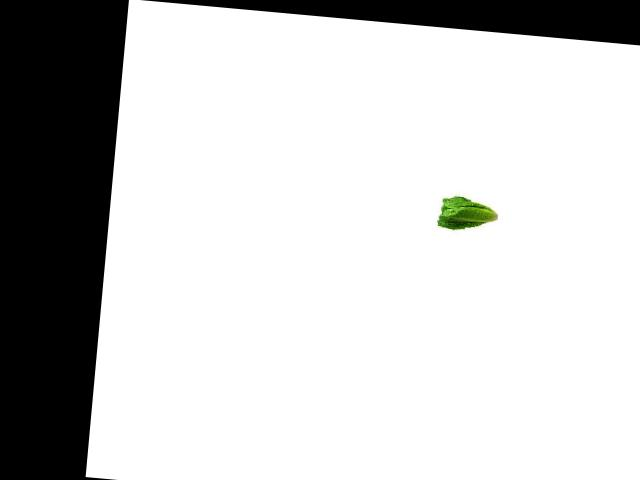lettuce: (434, 189, 502, 238)
